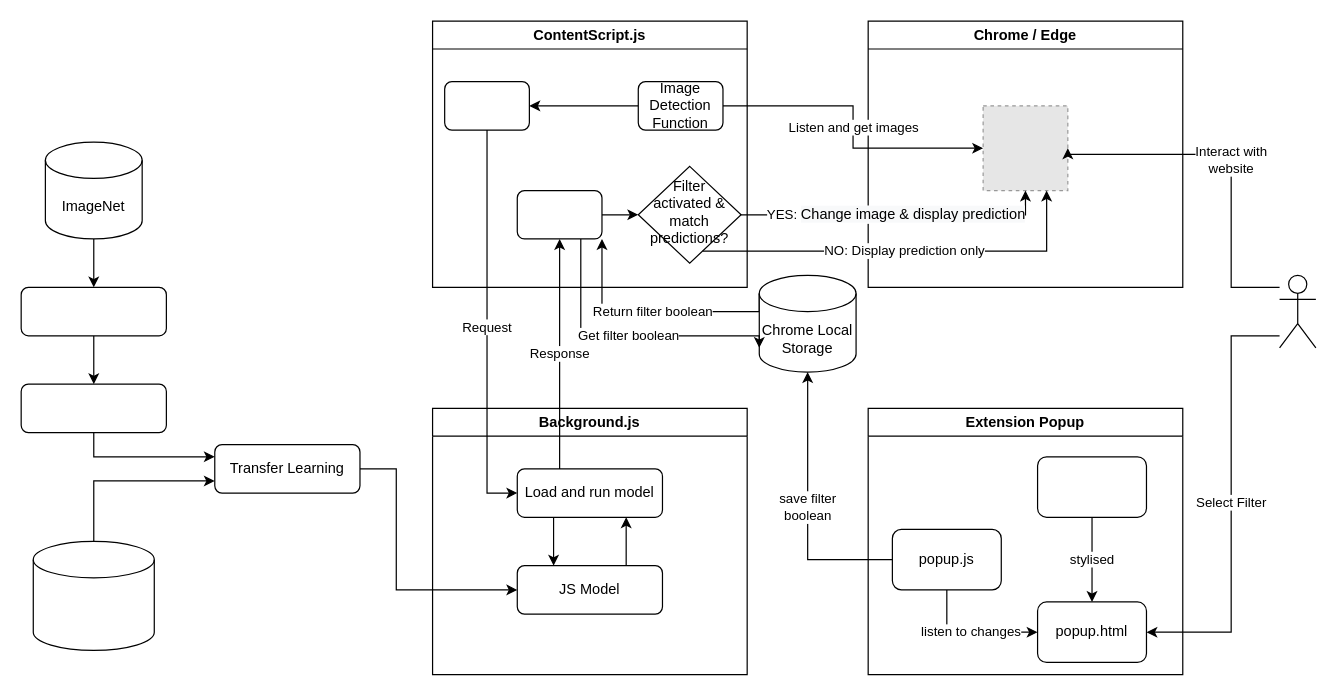
The diagram is 1337 pixels wide and 696 high, and some of its shapes have lost their labels. Grey dashed boxes stand in for pictures. The centre of each missing label's shape, as x and y in pixels:
"Actor" belongs at pixel 1297 311.
"Image Change Function" belongs at pixel 559 214.
"Image loader Function" belongs at pixel 486 105.
"Kaggle (Dog/ Cat/ Snake/ Trypo/ Others Pics)" belongs at pixel 93 595.
"MobileNetv2 (pre-trained)" belongs at pixel 93 311.
"popup.css" belongs at pixel 1091 486.
"Pretrained Weights" belongs at pixel 93 408.
